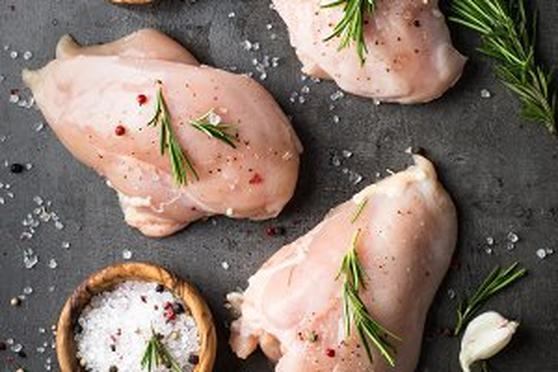chicken_fillet: (22, 30, 303, 232), (234, 154, 468, 372)
